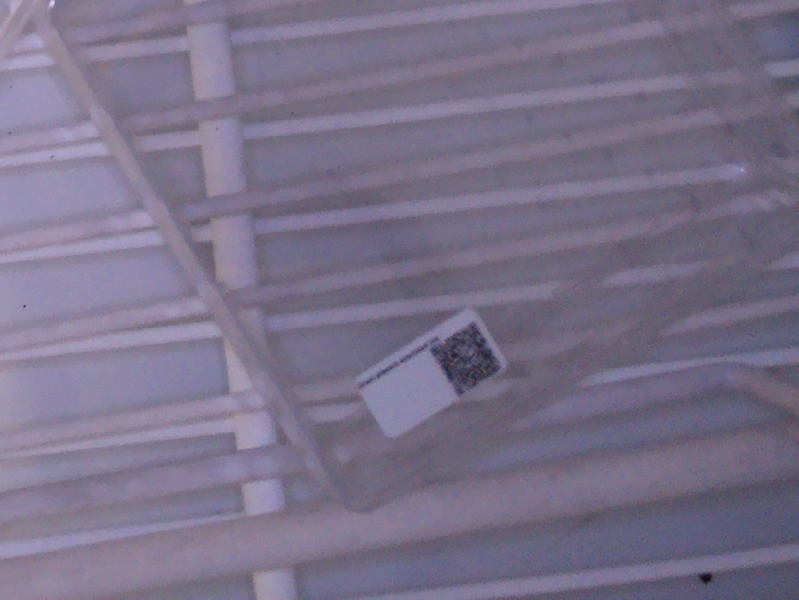plate: (29, 1, 799, 514)
